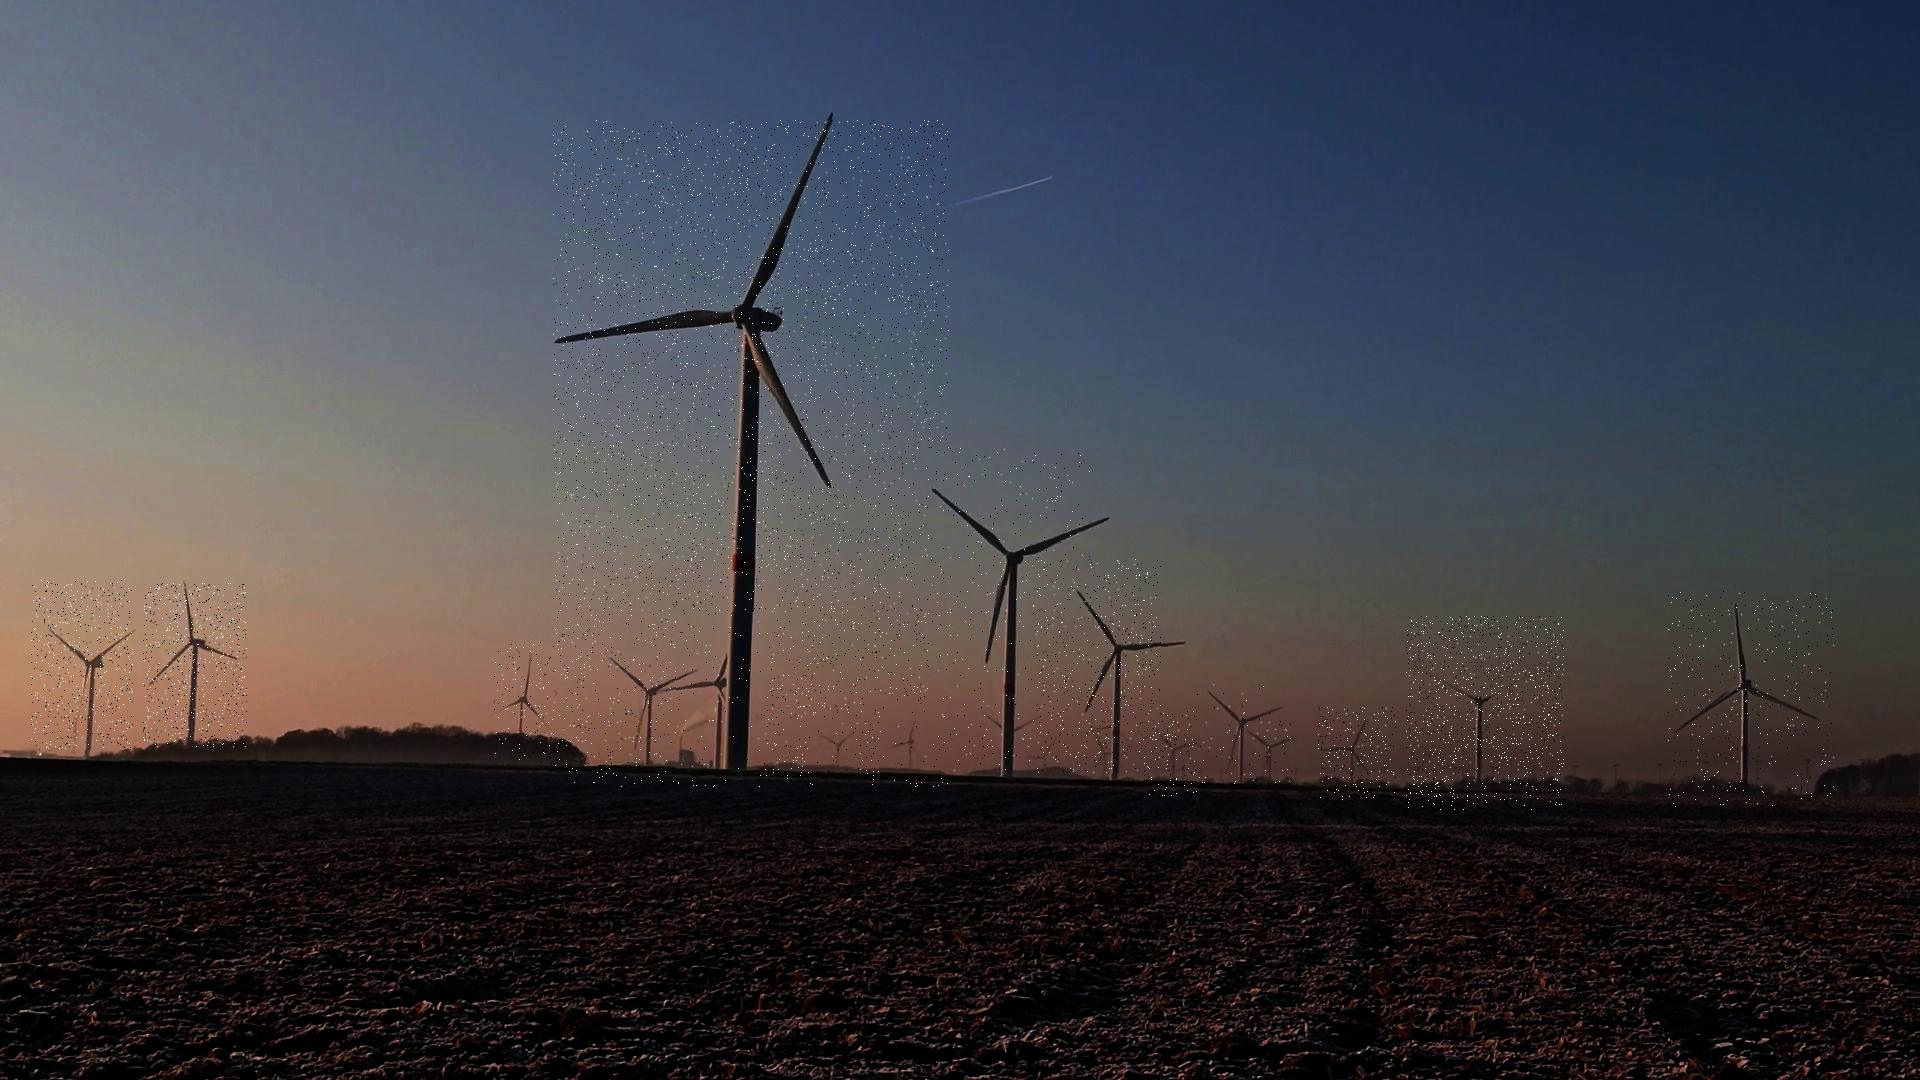turbine: (553, 120, 948, 787), (928, 448, 1091, 771), (1668, 592, 1834, 808), (1406, 616, 1564, 810), (1036, 560, 1160, 774), (30, 580, 132, 750), (142, 584, 247, 748), (676, 612, 766, 781), (597, 628, 702, 771), (1192, 684, 1278, 786), (495, 640, 556, 765), (1317, 705, 1396, 800), (878, 698, 940, 778), (1143, 712, 1196, 796), (1244, 721, 1292, 786), (810, 720, 855, 779)
